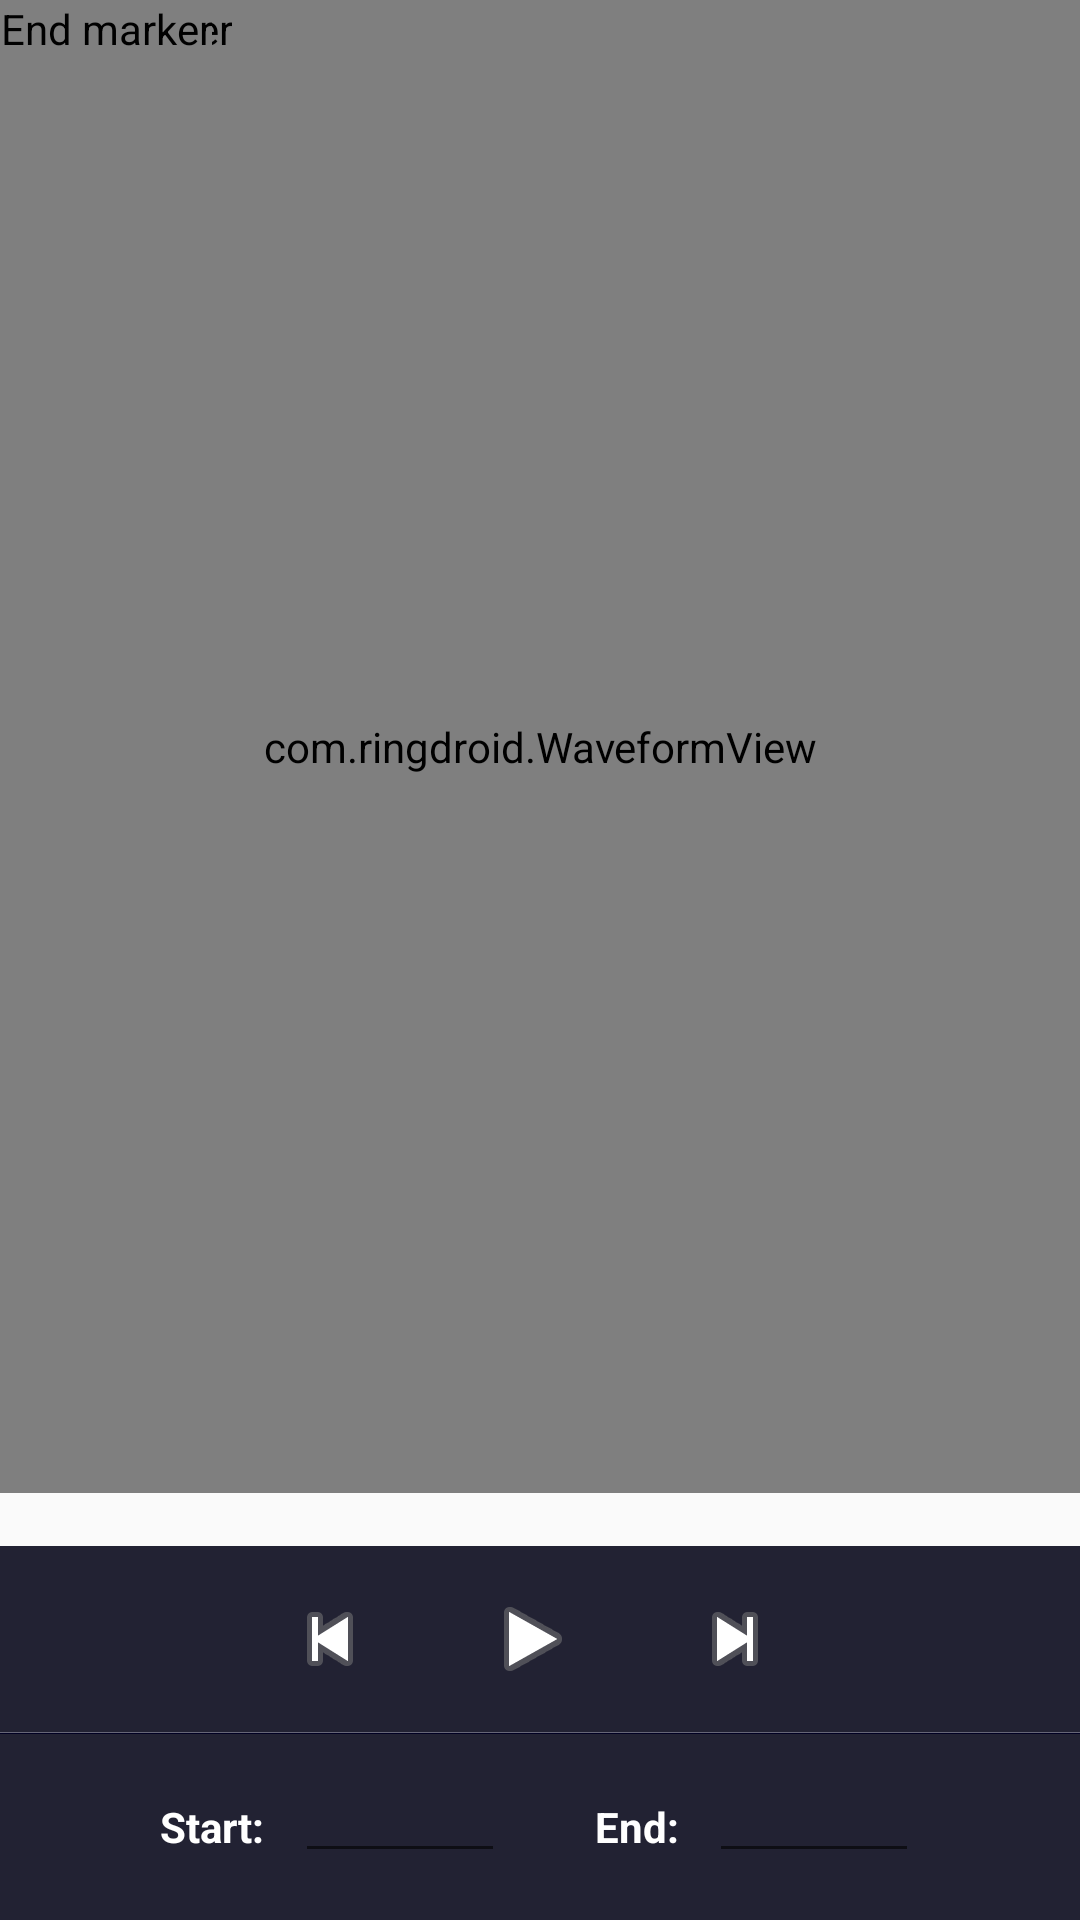

Icons on this 1080x1920 Android screen, each with the point to tap as [x,y]:
Fast forward: [735,1639]
Play: [533,1639]
Rewind: [330,1639]
